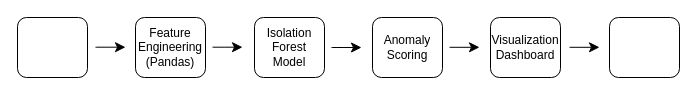
This 697x95 diagram has some shape labels left out. The centre of each missing label's shape, as x and y in pixels:
Network Flow Logs: point 52,47
Security Analyst Investigation: point 644,47
